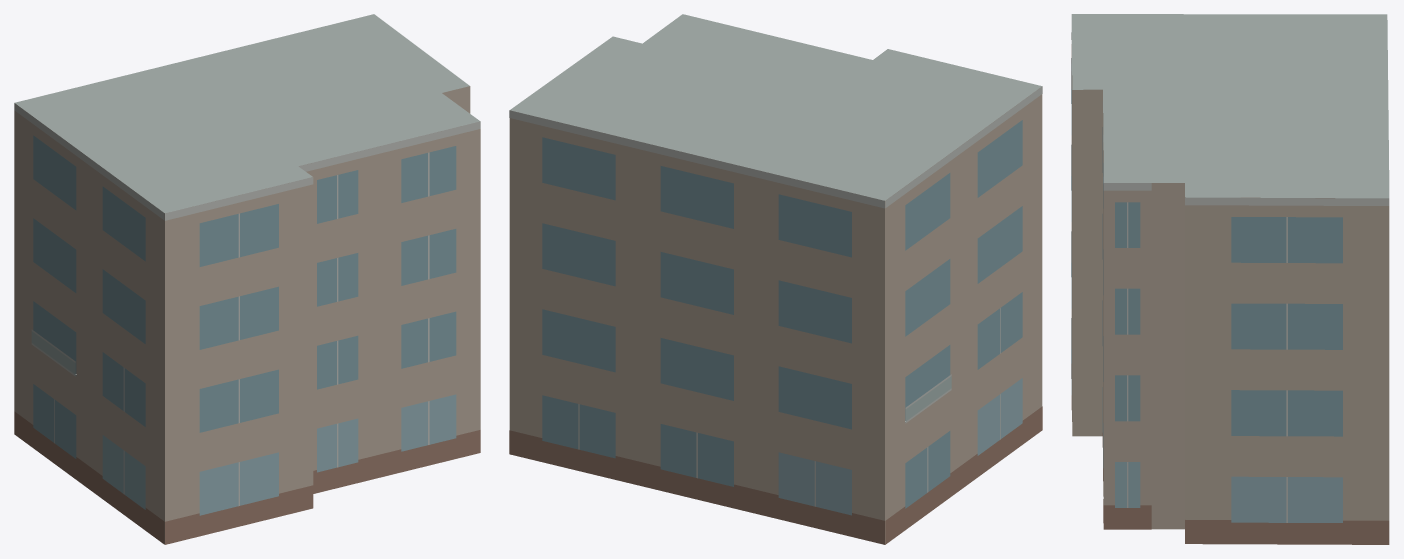
File: survey-upis-32771300.glb
3 renders of one model, left to right at view 1: azimuth 30°, elevation 25°; view 2: azimuth 150°, elevation 25°; view 3: azimuth 270°, elevation 25°, orthographic. The views are drawn at different scales.
Parts seen in each view (by area): view 1: survey-upis-32771300.tmp; view 2: survey-upis-32771300.tmp; view 3: survey-upis-32771300.tmp.
Part boxes in pixels (x1,y1,x2,y2): survey-upis-32771300.tmp: [14, 14, 480, 544]; survey-upis-32771300.tmp: [509, 14, 1042, 544]; survey-upis-32771300.tmp: [1071, 14, 1389, 544].
Bounding box in the file's own units: 12.47 × 10.9 × 9.08.
